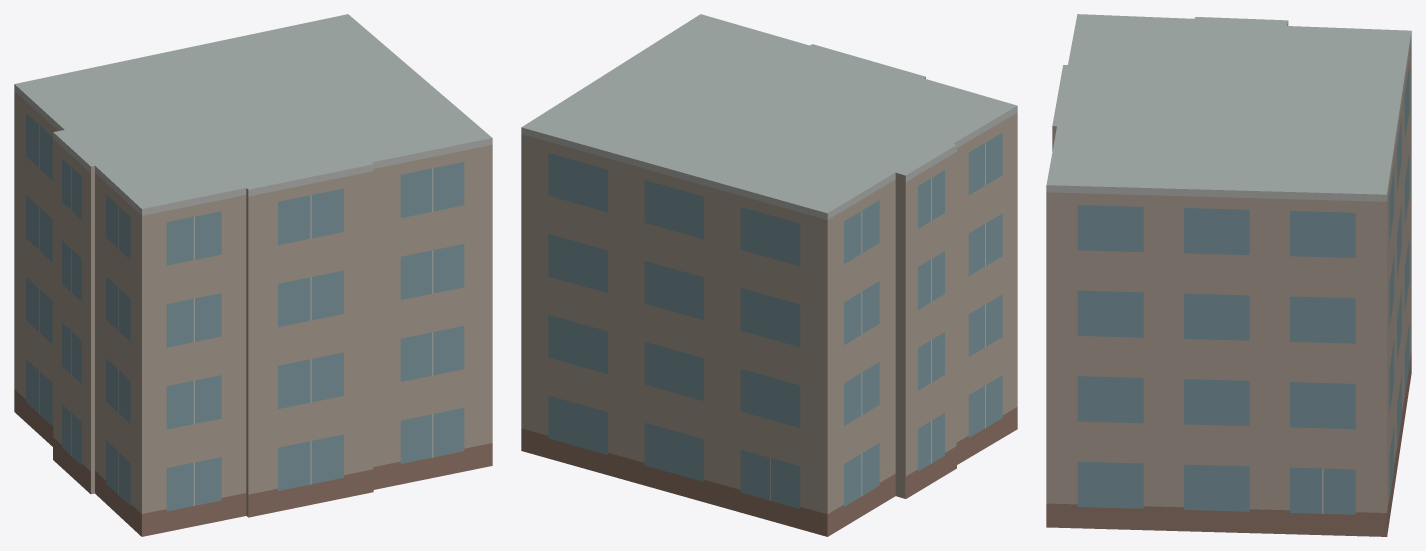
The model's file is survey-upis-32663969.glb.
3 views of the same model, side by side, from view 1: azimuth 30°, elevation 25°; view 2: azimuth 150°, elevation 25°; view 3: azimuth 270°, elevation 25° (orthographic). The views are drawn at different scales.
Parts seen in each view (by area): view 1: survey-upis-32663969.tmp; view 2: survey-upis-32663969.tmp; view 3: survey-upis-32663969.tmp.
Part boxes in pixels (left/top/right/bottom): survey-upis-32663969.tmp: left=14, top=14, right=492, bottom=536; survey-upis-32663969.tmp: left=521, top=14, right=1017, bottom=536; survey-upis-32663969.tmp: left=1046, top=14, right=1411, bottom=536.
Size of the model in its own units: 13.31 by 11.75 by 11.37.
